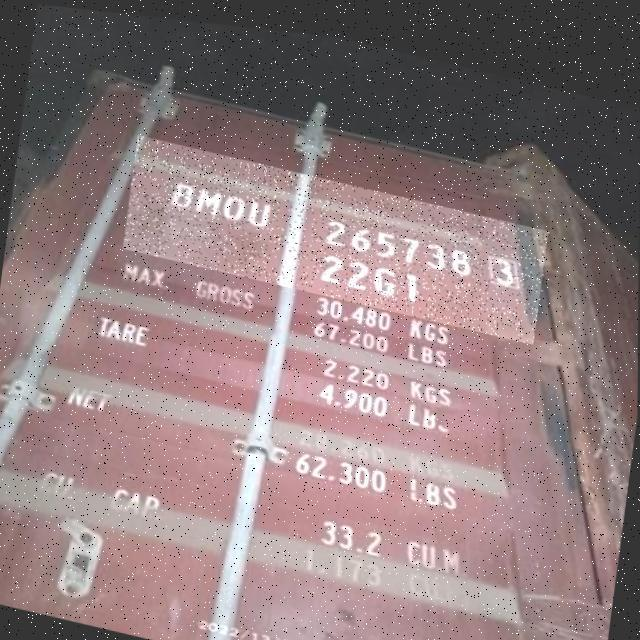container_number_h: (123, 130, 551, 334)
